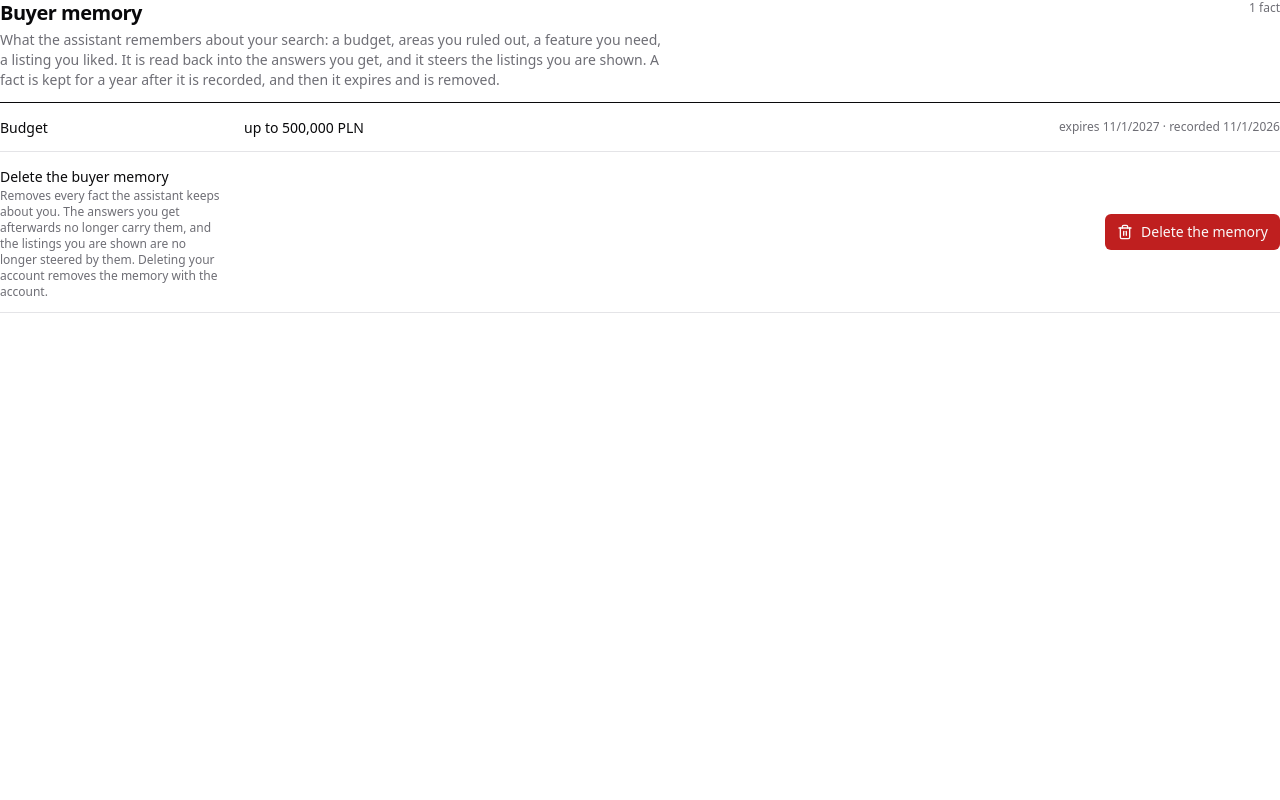
Scenario: BuyerMemorySettings › erases the memory on confirmation and says that it is gone
Expected: the text "up to 500,000 PLN" is shown, [244,118,364,137]
Click the button "Delete the memory".
click(1193, 232)  # box [1105,214,1279,250]
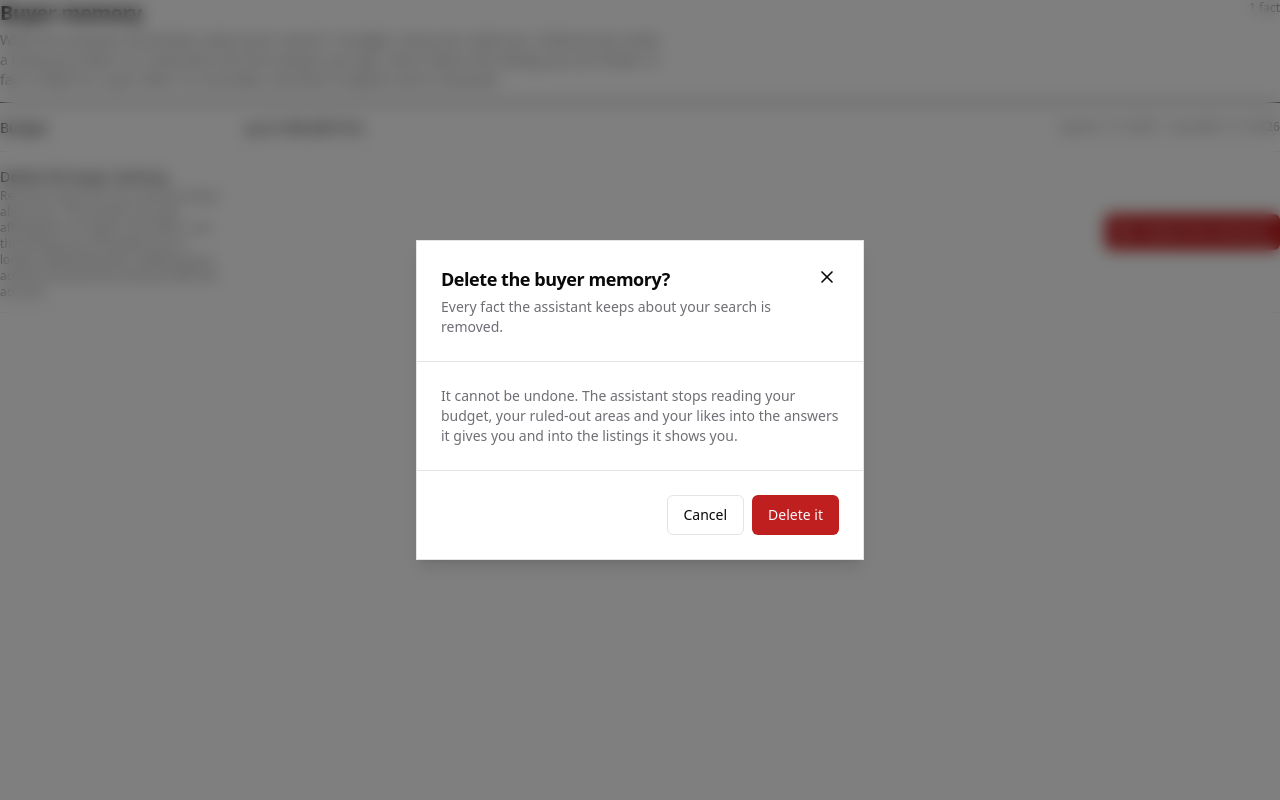
Click the button "Delete it".
click(796, 515)  # box [752,495,839,535]
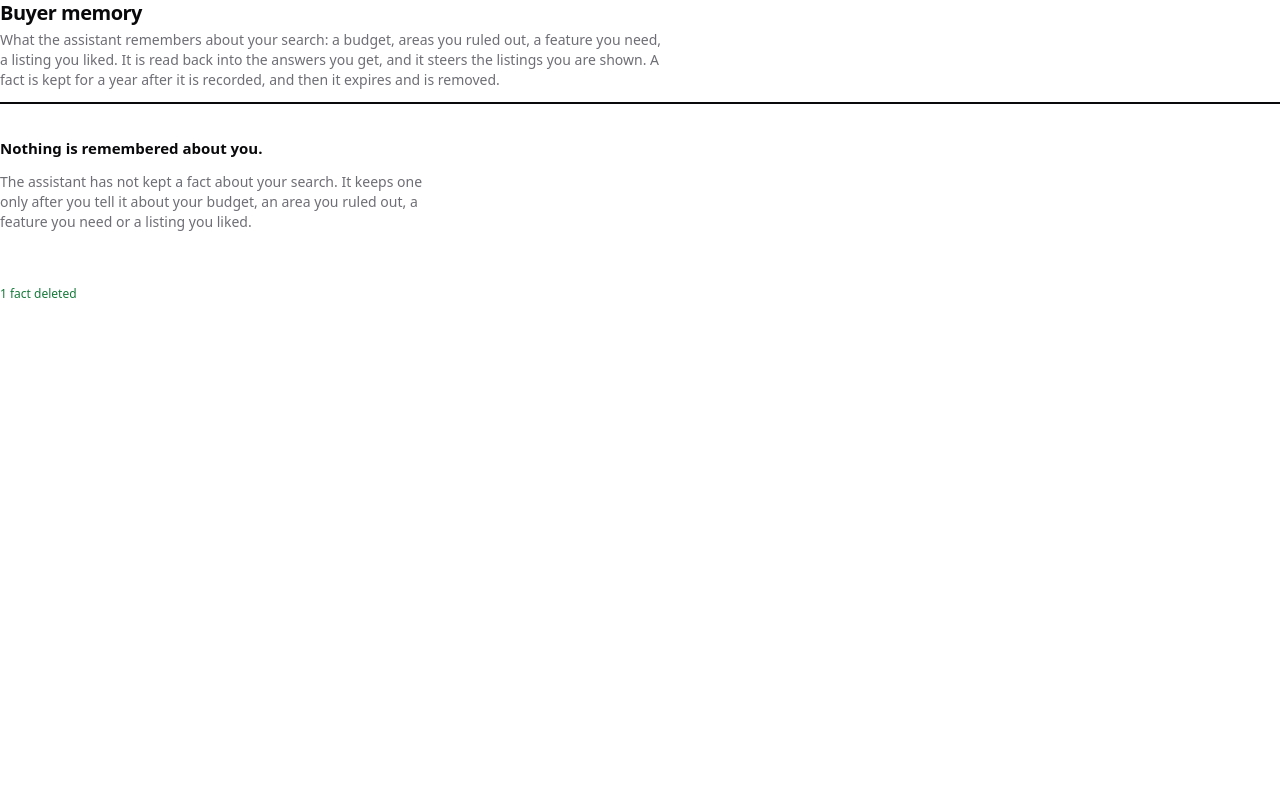
Result: the text "up to 500,000 PLN" is gone
Result: the text "1 fact deleted" is shown at [0,285,77,302]
Result: the text "Nothing is remembered about you." is shown at [0,136,262,160]
